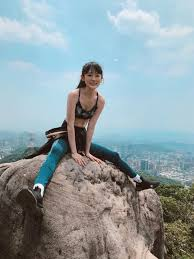people: (38, 62, 160, 190)
